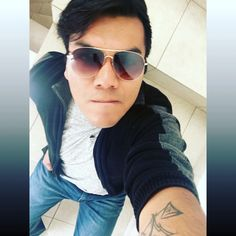sunglasses: (62, 46, 144, 79)
